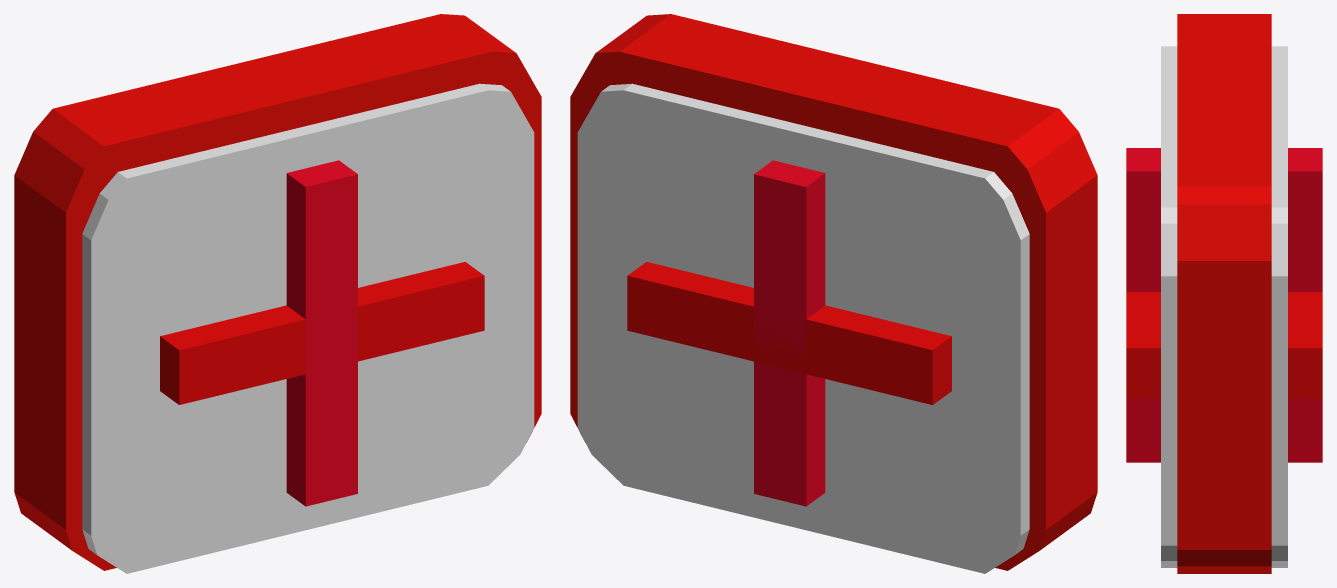
Rendered from Health.fbx.
3 renders of one model, left to right at view 1: azimuth 30°, elevation 25°; view 2: azimuth 150°, elevation 25°; view 3: azimuth 270°, elevation 25°, orthographic. The views are drawn at different scales.
Parts seen in each view (by area): view 1: Cube.004, Cube, Cube.002, Cube.003; view 2: Cube.004, Cube, Cube.002, Cube.003; view 3: Cube, Cube.004, Cube.002, Cube.003.
Part boxes in pixels (left/top/right/bottom): Cube.004: left=82, top=83, right=534, bottom=573; Cube: left=14, top=14, right=541, bottom=570; Cube.002: left=286, top=160, right=357, bottom=506; Cube.003: left=160, top=262, right=484, bottom=404; Cube.004: left=577, top=83, right=1029, bottom=573; Cube: left=570, top=14, right=1097, bottom=570; Cube.002: left=754, top=160, right=825, bottom=506; Cube.003: left=627, top=262, right=951, bottom=404; Cube: left=1177, top=14, right=1271, bottom=573; Cube.004: left=1161, top=46, right=1287, bottom=567; Cube.002: left=1126, top=148, right=1322, bottom=462; Cube.003: left=1126, top=292, right=1322, bottom=398.
Bounding box in the file's own units: 235 × 200 × 92.06.
